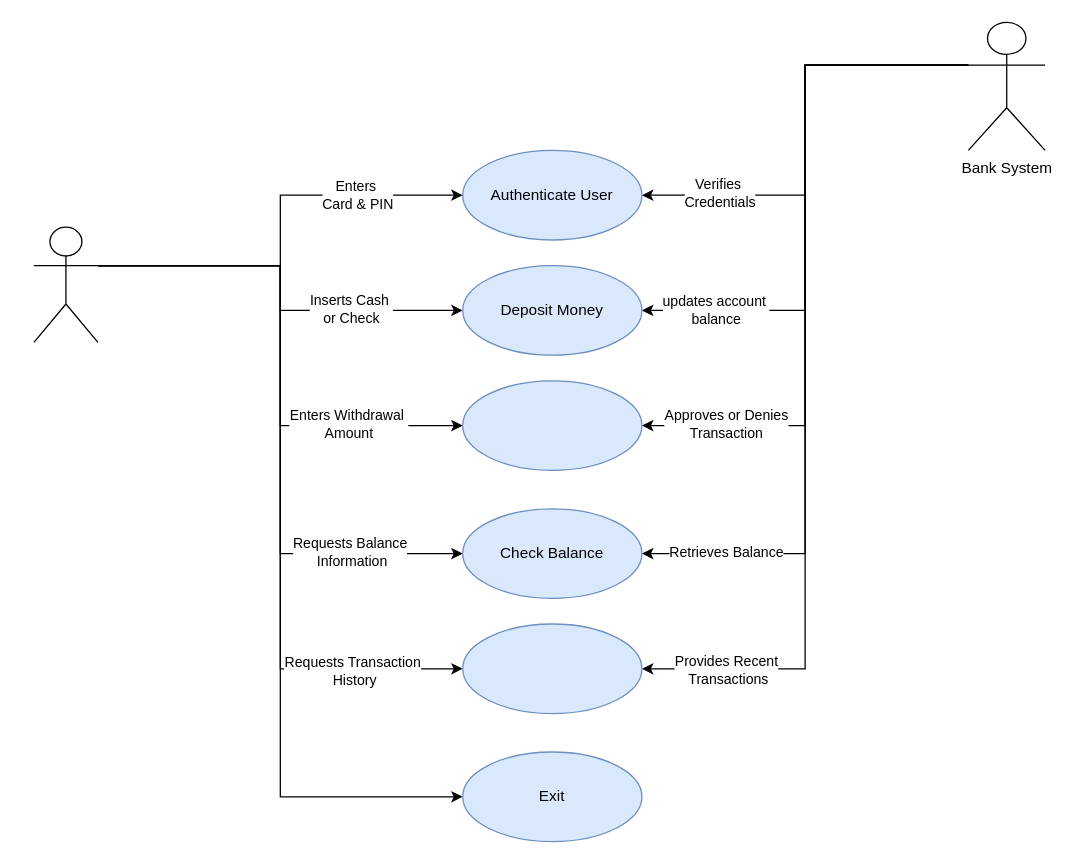
This 1074x864 diagram has some shape labels left out. Each missing label, with the centre of its shape:
"CUSTOMER" belongs at point (65, 284).
"View Mini Statement" belongs at point (551, 668).
"Withdraw Money" belongs at point (551, 425).
